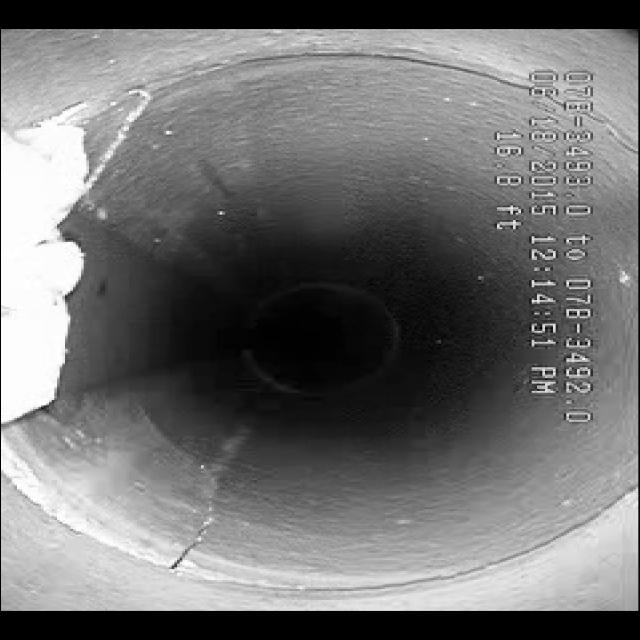Crack: (150, 427, 274, 575)
